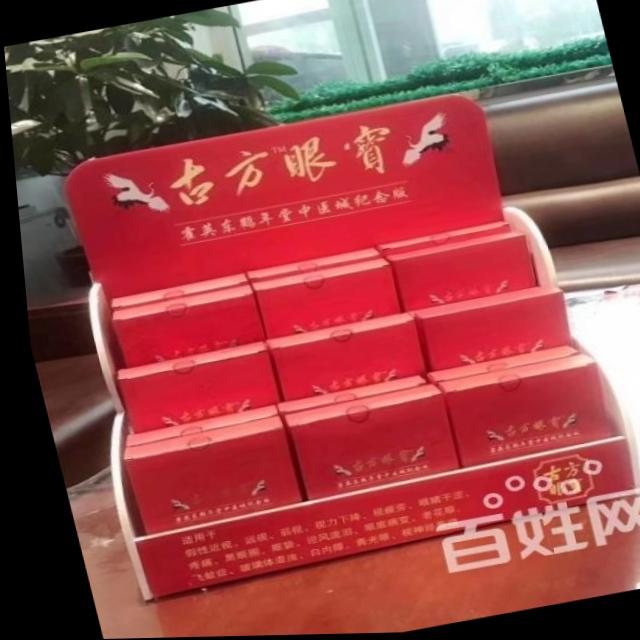box: (116, 417, 293, 535), (276, 385, 451, 502), (429, 356, 601, 470), (109, 342, 274, 434), (259, 314, 420, 404), (405, 286, 565, 373), (107, 285, 259, 368), (382, 234, 531, 314), (247, 260, 395, 340), (118, 406, 271, 448), (271, 376, 419, 416), (421, 347, 571, 385), (106, 274, 245, 310), (243, 249, 376, 284), (371, 223, 507, 257)
